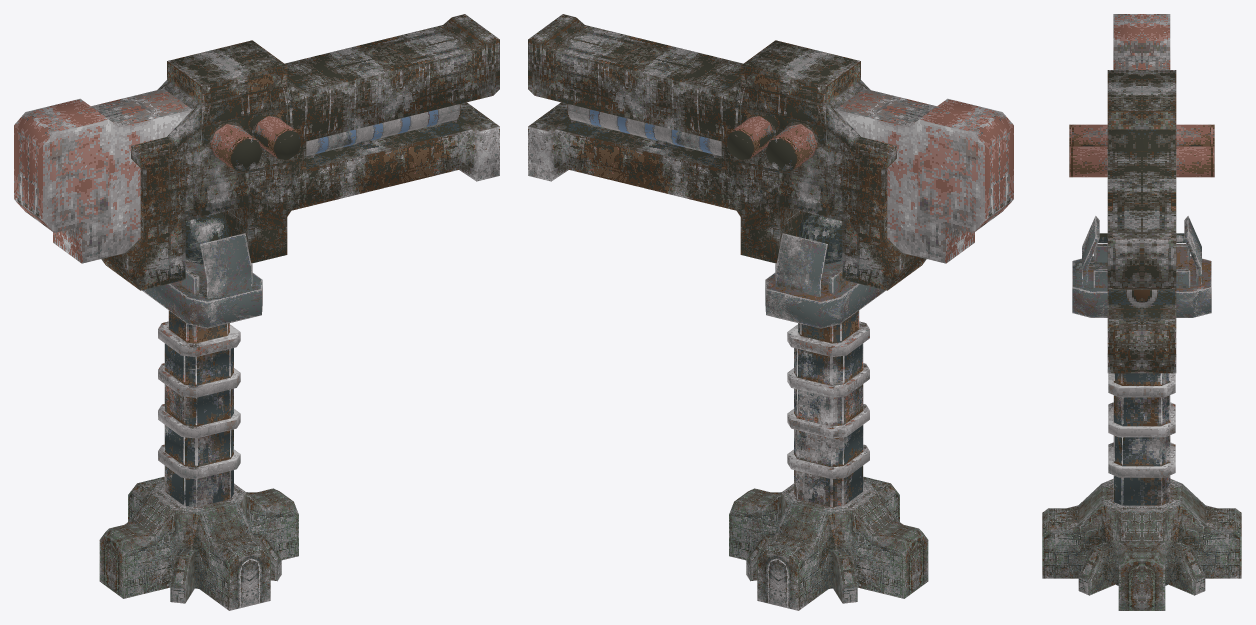
Rendered from boss_main.gltf.
3 views of the same model, side by side, from view 1: azimuth 30°, elevation 25°; view 2: azimuth 150°, elevation 25°; view 3: azimuth 270°, elevation 25° (orthographic).
Visible parts, largest first — view 1: Main gun, Cube, Gun back part, Turret_Base, Icosphere; view 2: Main gun, Cube, Gun back part, Turret_Base, Icosphere; view 3: Main gun, Turret_Base, Cube, Gun back part.
Part boxes in pixels (left/top/right/bottom): Main gun: left=101, top=14, right=499, bottom=290; Cube: left=142, top=233, right=262, bottom=507; Gun back part: left=14, top=88, right=191, bottom=263; Turret_Base: left=99, top=476, right=298, bottom=610; Icosphere: left=185, top=212, right=229, bottom=264; Main gun: left=528, top=14, right=926, bottom=290; Cube: left=765, top=233, right=885, bottom=507; Gun back part: left=835, top=88, right=1013, bottom=263; Turret_Base: left=729, top=476, right=928, bottom=610; Icosphere: left=798, top=212, right=842, bottom=264; Main gun: left=1069, top=70, right=1214, bottom=373; Turret_Base: left=1042, top=478, right=1241, bottom=610; Cube: left=1072, top=216, right=1211, bottom=505; Gun back part: left=1113, top=14, right=1170, bottom=69.
Bounding box in the file's own units: 31.83 × 33.43 × 12.29.
Materials: 1 (1 with a texture image).
